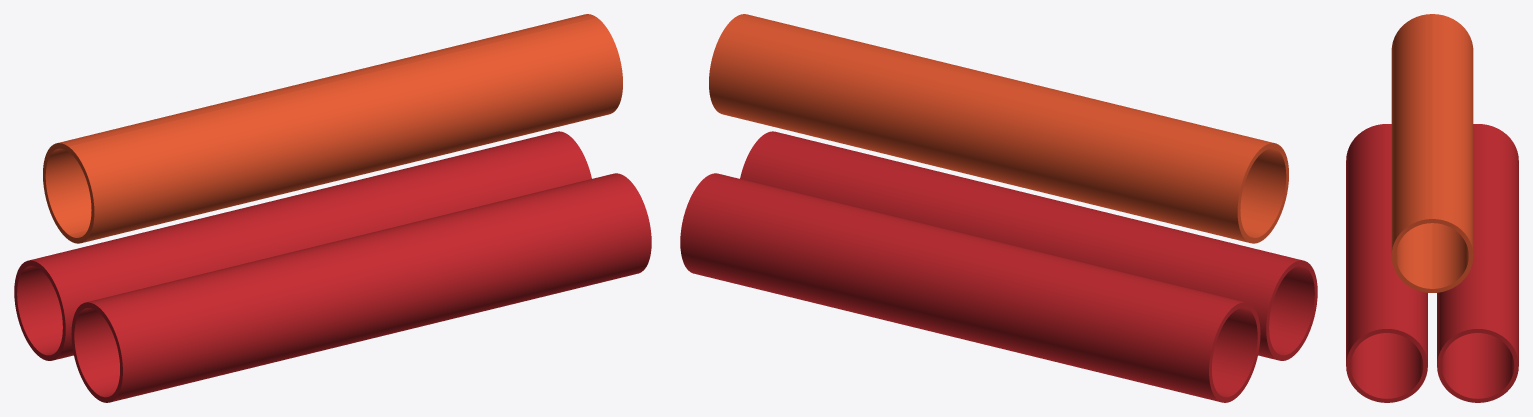
The model's file is nanofiltration_system_pressure.glb.
3 views of the same model, side by side, from view 1: azimuth 30°, elevation 25°; view 2: azimuth 150°, elevation 25°; view 3: azimuth 270°, elevation 25° (orthographic). The views are drawn at different scales.
Visible parts, largest first — view 1: press__front, press__back; view 2: press__back, press__front; view 3: press__back, press__front.
Boxes of the visible parts, x1,y1,x2,y2 form: press__front: (68, 17, 651, 402); press__back: (14, 14, 596, 360); press__back: (680, 17, 1263, 402); press__front: (735, 14, 1317, 360); press__back: (1432, 14, 1518, 402); press__front: (1346, 14, 1432, 402).
Size of the model in its own units: 1.6 by 0.67 by 0.57.
